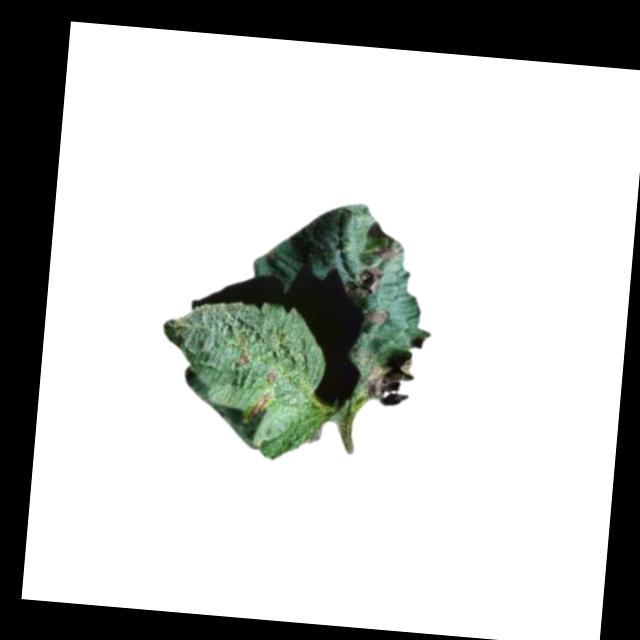Early_blight: (359, 346, 417, 408), (343, 265, 383, 298), (246, 390, 270, 421), (364, 305, 390, 325), (374, 242, 400, 260), (264, 369, 277, 386), (238, 352, 247, 363)
